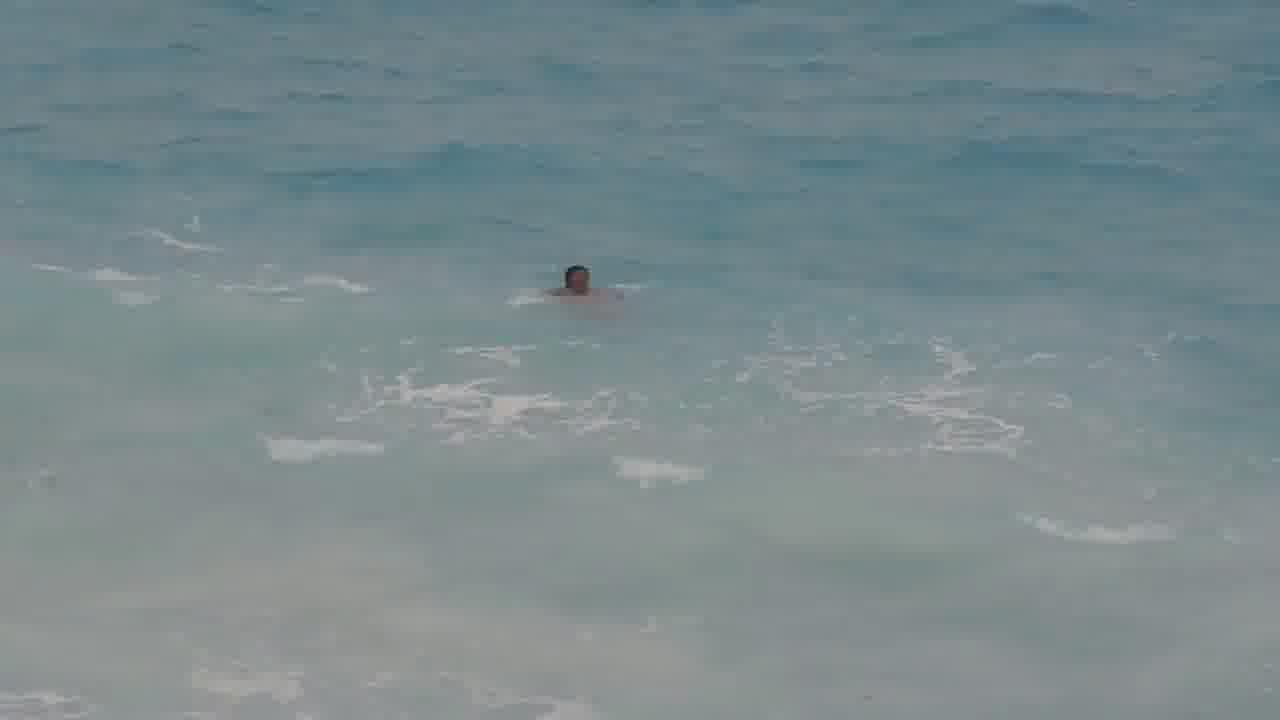swimmer: (547, 259, 611, 293)
